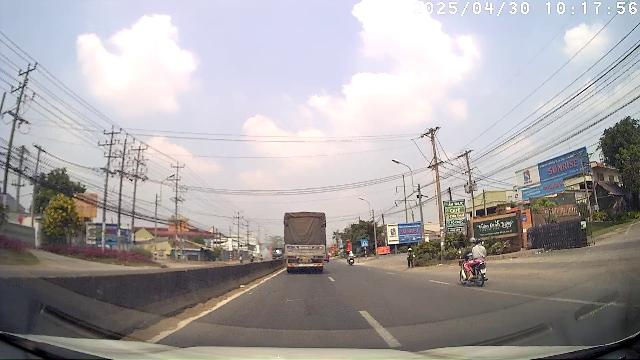423a-duong-nguoi-di-bo-sang-ngang-1: (362, 240, 368, 246)
